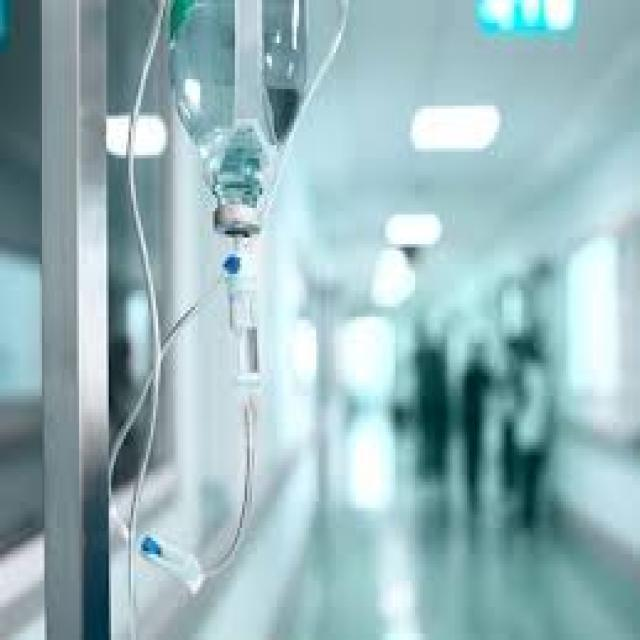iv_fluids: (154, 20, 317, 509)
